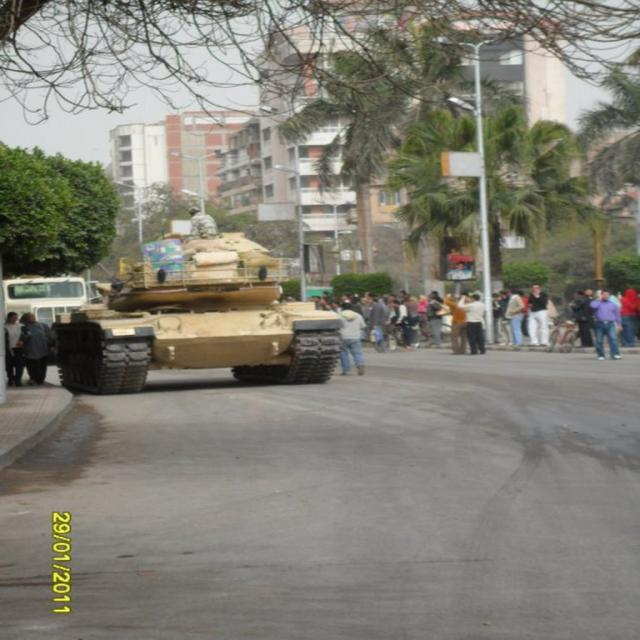tank: (53, 228, 345, 395)
